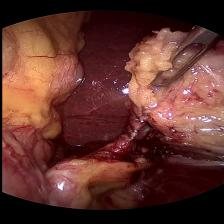Grasper: (143, 24, 224, 92)
